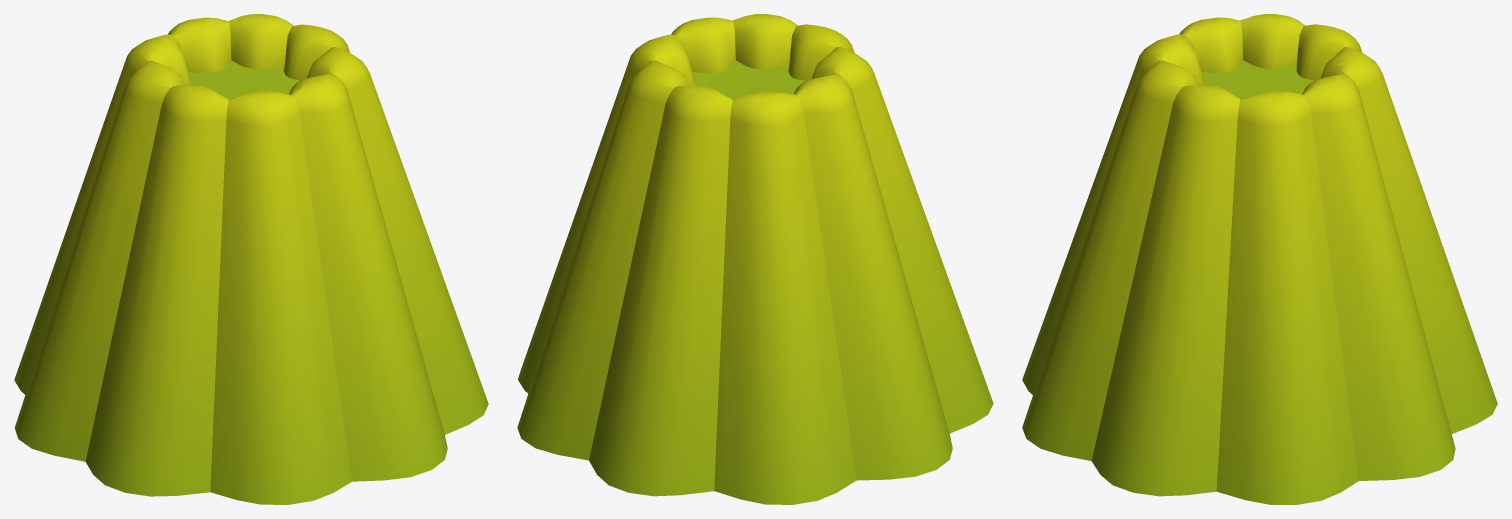
The model's file is Jelly_02.fbx.
The picture shows the model from 3 angles, left to right: view 1: azimuth 30°, elevation 25°; view 2: azimuth 150°, elevation 25°; view 3: azimuth 270°, elevation 25°; orthographic projection.
Visible parts, largest first — view 1: Jelly_02; view 2: Jelly_02; view 3: Jelly_02.
Boxes of the visible parts, x1,y1,x2,y2 form: Jelly_02: [14, 14, 488, 504]; Jelly_02: [517, 14, 993, 504]; Jelly_02: [1022, 14, 1497, 504].
Bounding box in the file's own units: 222 × 178 × 221.
